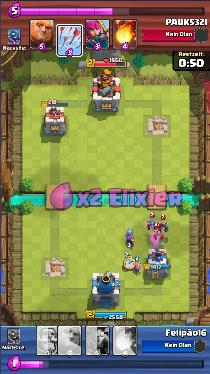ally_archer: (135, 264, 141, 273)
ally_musketeer: (125, 227, 134, 248)
enemy_minion: (157, 221, 168, 232), (152, 230, 164, 239), (146, 219, 156, 229)
